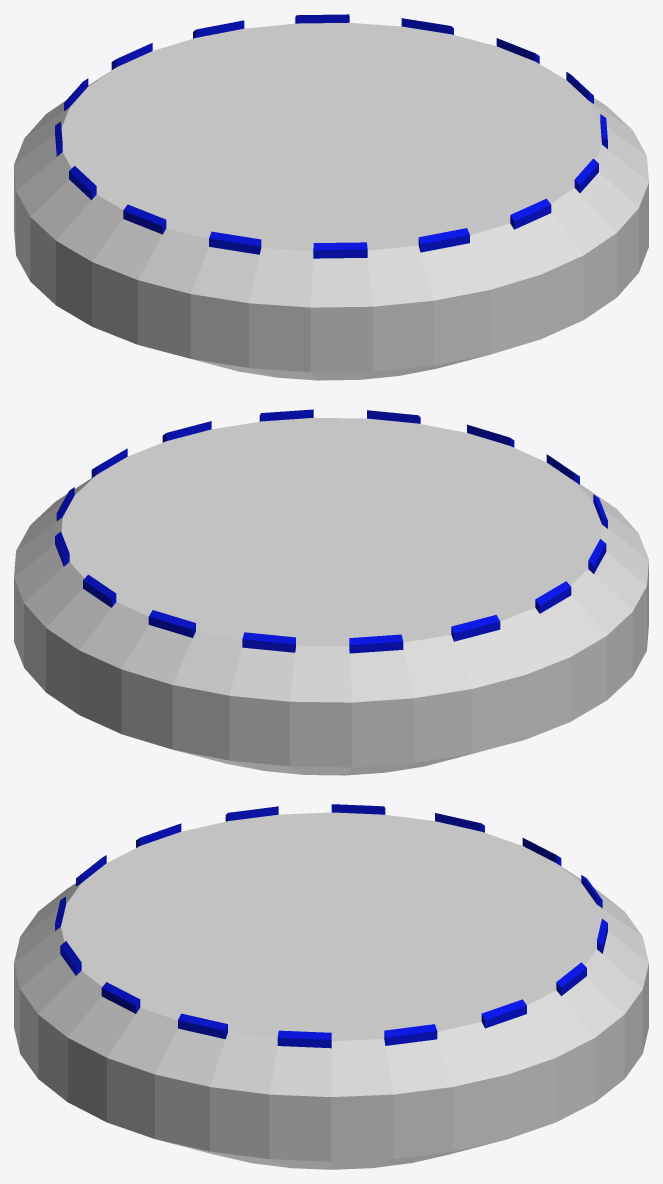
File: kamino platform.fbx
3 renders of one model, top to bottom at view 1: azimuth 30°, elevation 25°; view 2: azimuth 150°, elevation 25°; view 3: azimuth 270°, elevation 25°, orthographic.
Visible parts, largest first — view 1: Cylinder; view 2: Cylinder; view 3: Cylinder.
Boxes of the visible parts, x1,y1,x2,y2 form: Cylinder: (14, 14, 648, 380); Cylinder: (14, 409, 648, 775); Cylinder: (14, 804, 648, 1169).
Bounding box in the file's own units: 1251 × 354 × 1251.
